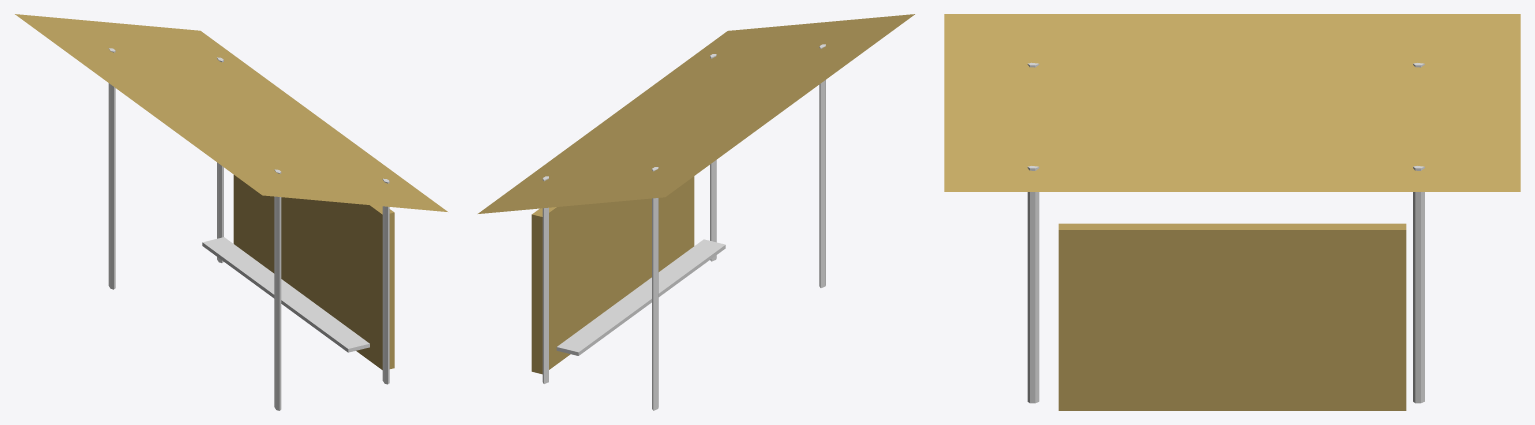
The model's file is busstop.fbx.
3 renders of one model, left to right at view 1: azimuth 30°, elevation 25°; view 2: azimuth 150°, elevation 25°; view 3: azimuth 270°, elevation 25°, orthographic. The views are drawn at different scales.
Parts seen in each view (by area): view 1: polySurface1; view 2: polySurface1; view 3: polySurface1.
Boxes of the visible parts, x1,y1,x2,y2 form: polySurface1: (15, 14, 447, 410); polySurface1: (478, 14, 914, 410); polySurface1: (944, 14, 1520, 410).
Bounding box in the file's own units: 0.8671 × 1.13 × 2.
